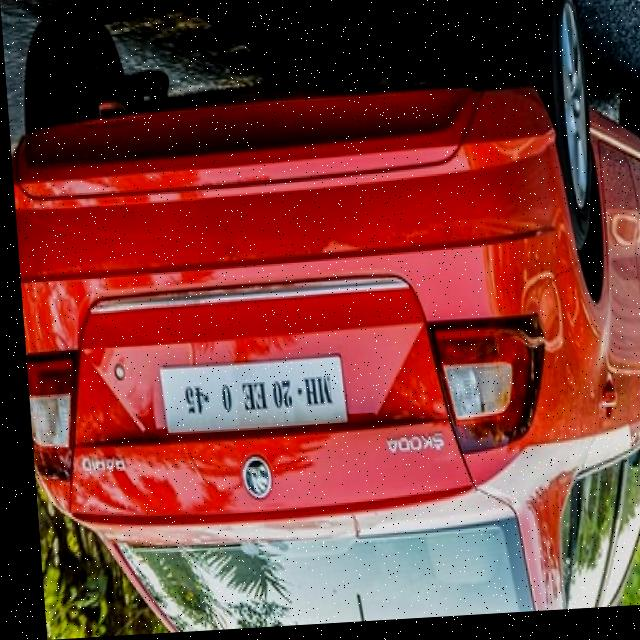plate: (154, 359, 343, 441)
